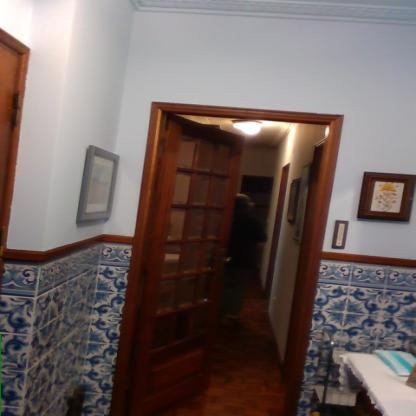open: (133, 88, 350, 413)
